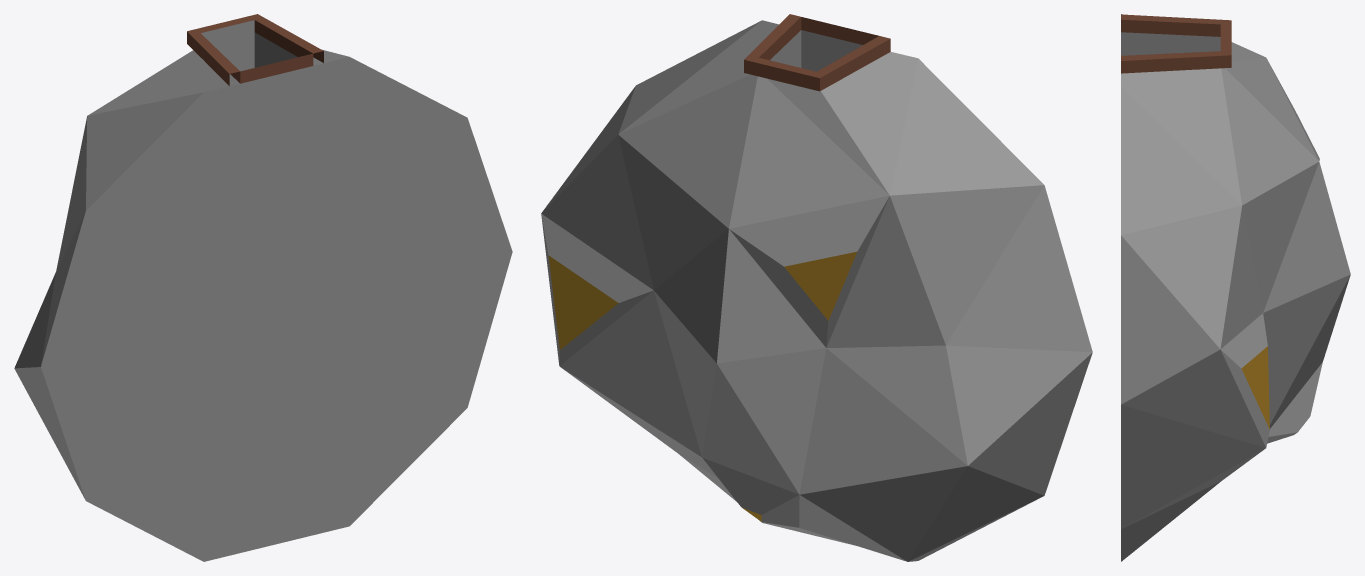
Rendered from Gold Mine.fbx.
The picture shows the model from 3 angles, left to right: view 1: azimuth 30°, elevation 25°; view 2: azimuth 150°, elevation 25°; view 3: azimuth 270°, elevation 25°; orthographic projection. The views are drawn at different scales.
Parts seen in each view (by area): view 1: Icosphere; view 2: Icosphere; view 3: Icosphere.
Boxes of the visible parts, x1,y1,x2,y2 form: Icosphere: [14, 14, 512, 561]; Icosphere: [541, 14, 1092, 561]; Icosphere: [1121, 14, 1350, 561].
Bounding box in the file's own units: 1500 × 1463 × 624.
